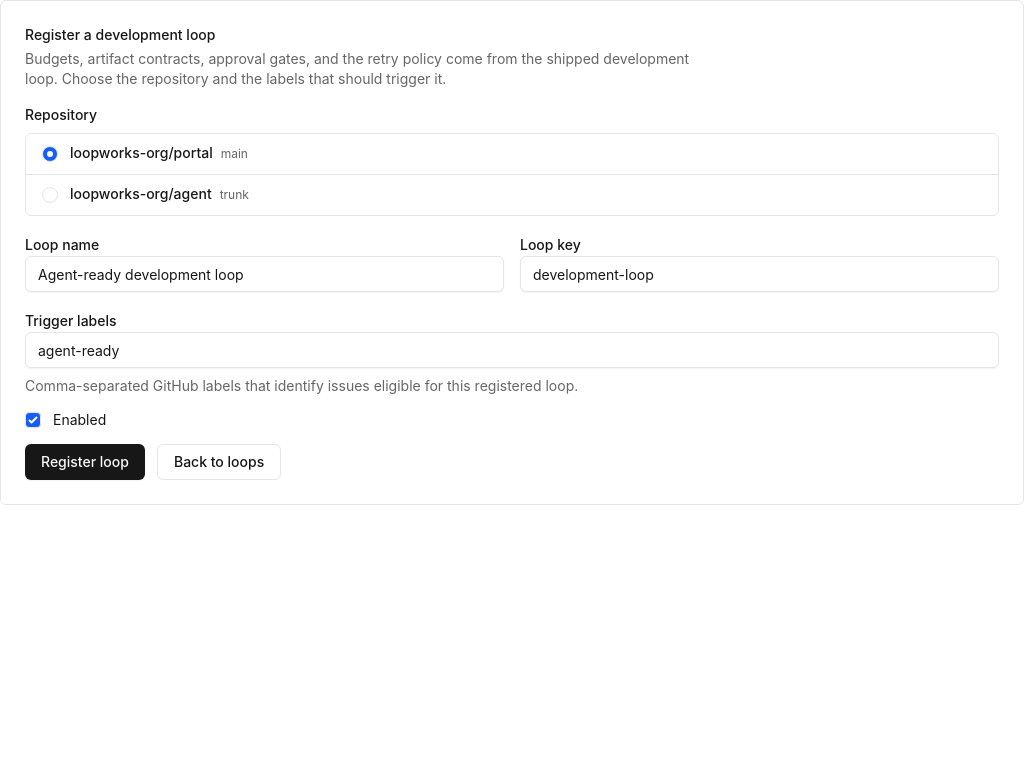
Test: loop registration form › reports a rejected request instead of silently re-enabling the button
The image size is (1024, 768).
Click the button "Register loop".
click(85, 462)  # box [25,444,145,480]
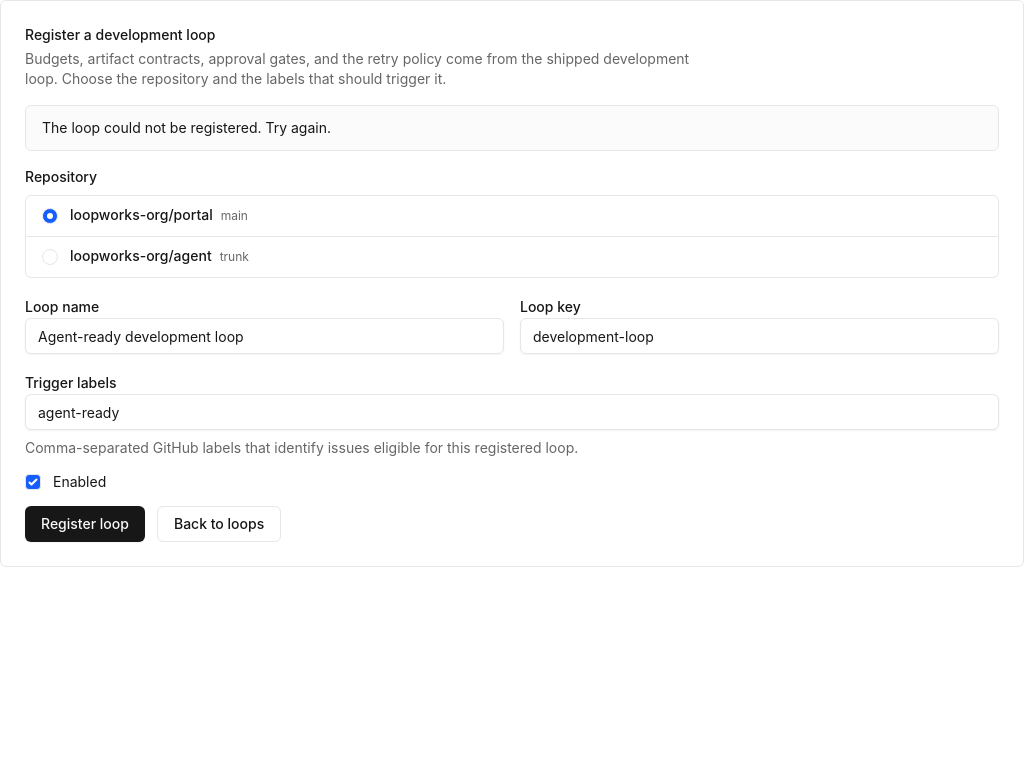
expect the button "Register loop" is enabled: met, box [25,506,145,542]
expect the message shows "could not be registered": met, box [42,119,331,136]
